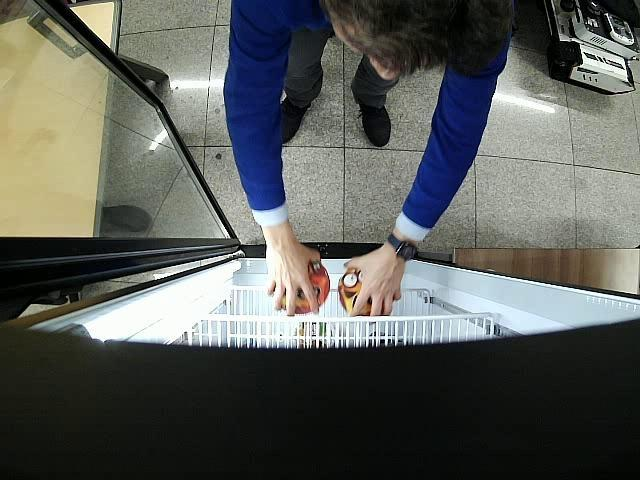05_nuguri_L: (281, 262, 330, 313), (338, 267, 372, 316)
